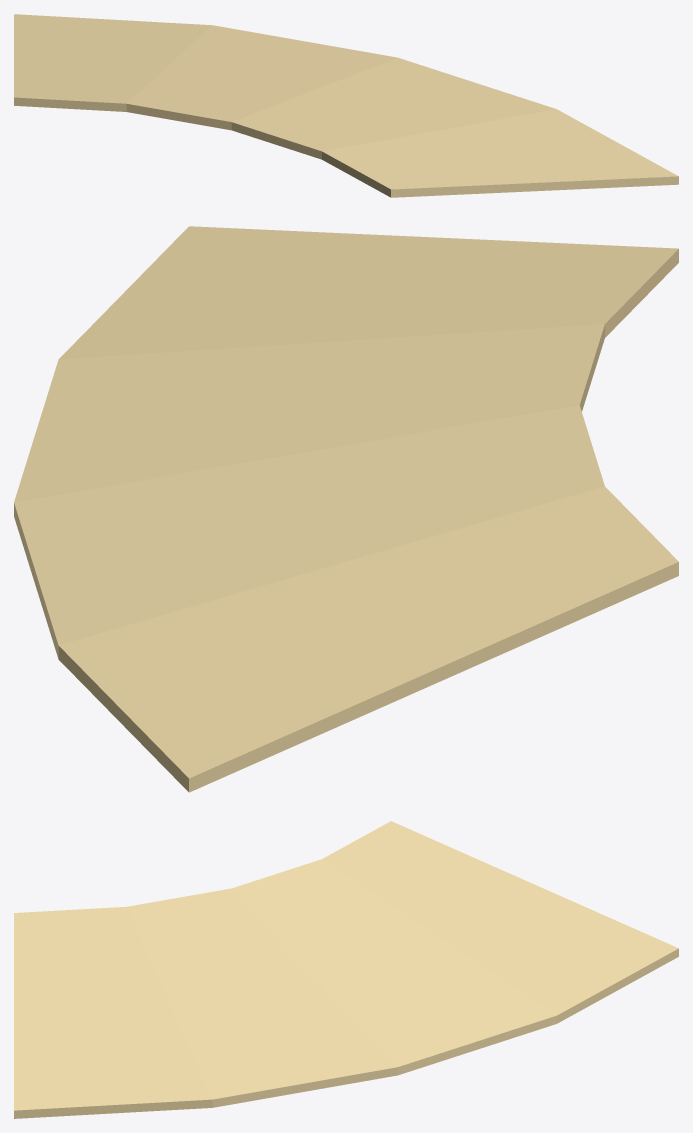
3 renders of one model, top to bottom at view 1: azimuth 30°, elevation 25°; view 2: azimuth 150°, elevation 25°; view 3: azimuth 270°, elevation 25°, orthographic. The views are drawn at different scales.
Visible parts, largest first — view 1: 高岸外60度_沙坡.001; view 2: 高岸外60度_沙坡.001; view 3: 高岸外60度_沙坡.001.
Part boxes in pixels (bbox=[...]): 高岸外60度_沙坡.001: bbox=[14, 14, 678, 197]; 高岸外60度_沙坡.001: bbox=[14, 226, 678, 792]; 高岸外60度_沙坡.001: bbox=[14, 821, 678, 1118].
Size of the model in its own units: 0.48 by 0.063 by 0.5802.
